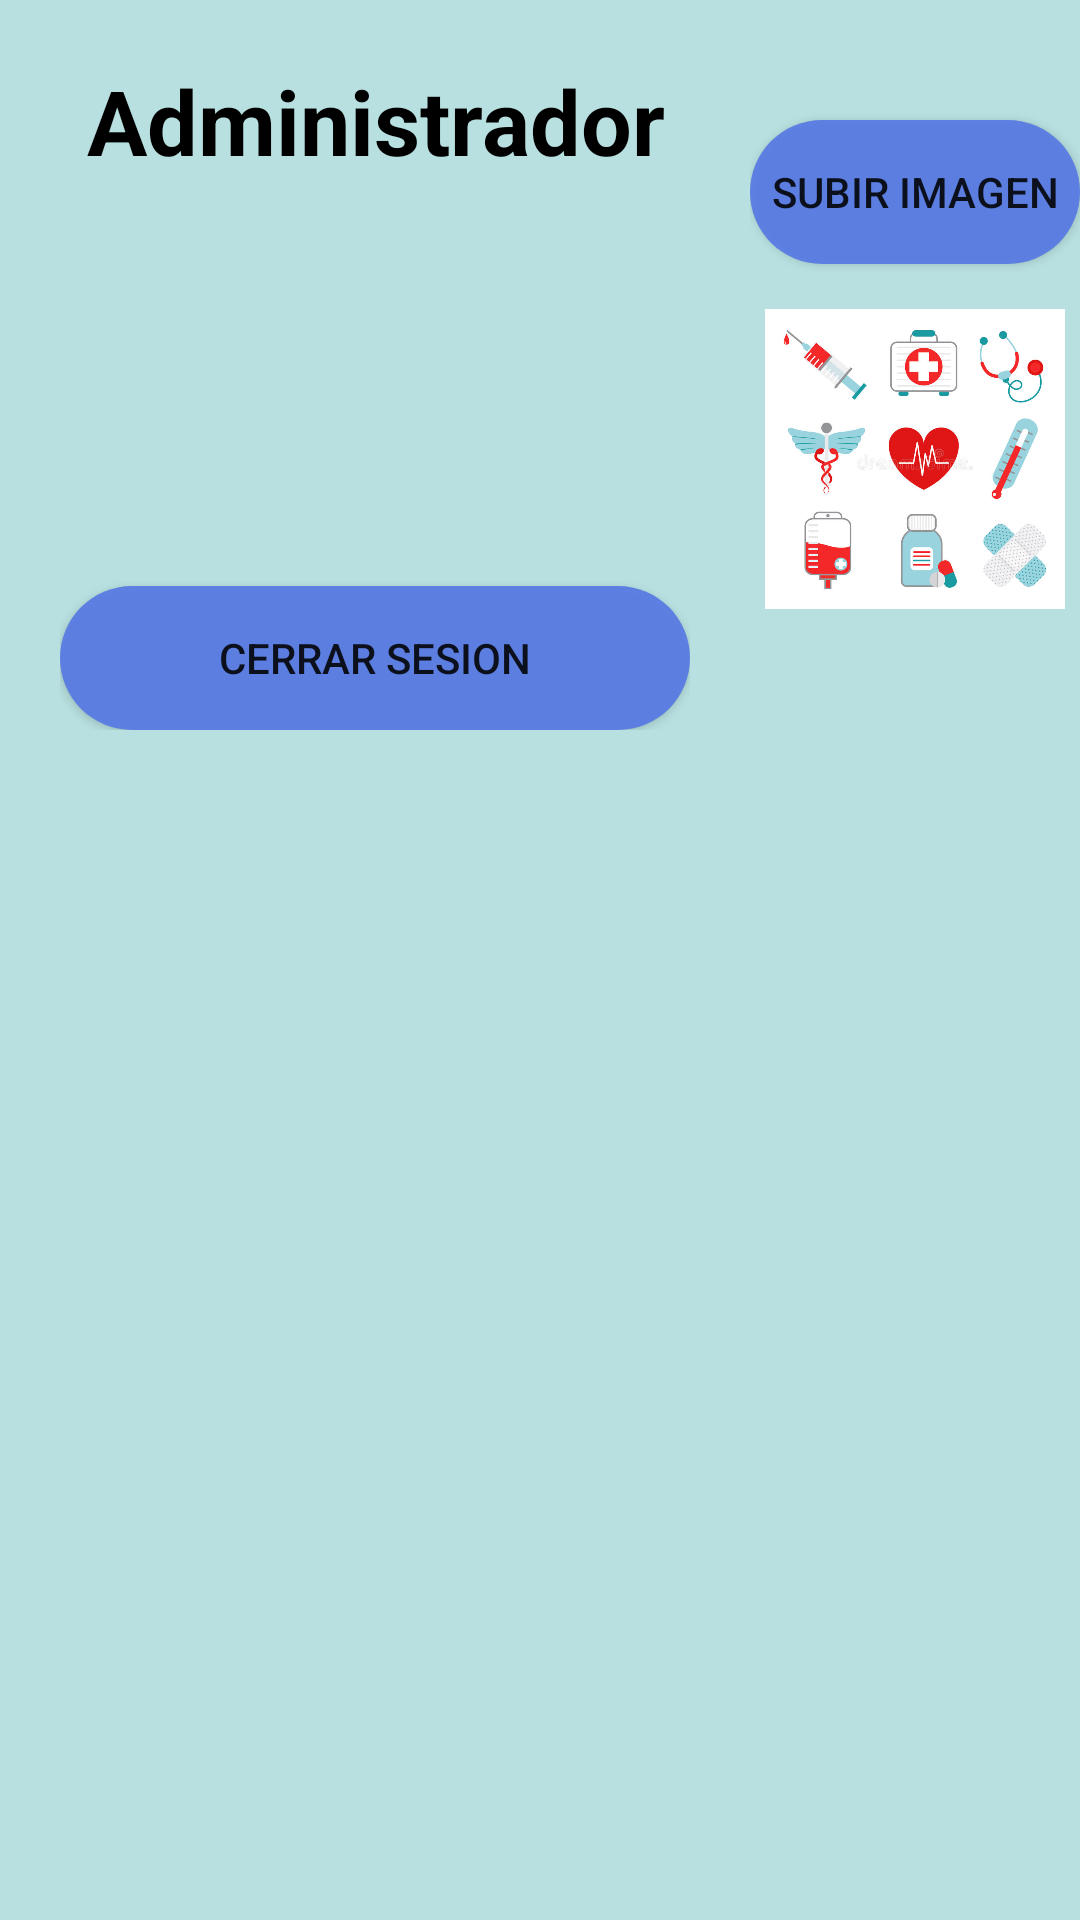

Screen size 1080px x 1920px. Icon name, then its box in pixels as (x1, y1, x2, y2):
med: (765, 309, 1065, 609)
